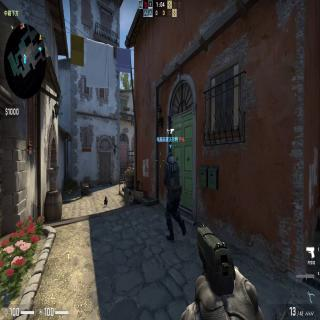CT-Body: (161, 151, 186, 238)
